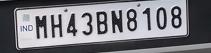0: (155, 7, 171, 30)
1: (141, 6, 154, 33)
3: (80, 11, 95, 37)
4: (66, 12, 79, 38)
8: (125, 7, 140, 33), (169, 5, 184, 30)
B: (96, 12, 110, 36)
H: (50, 14, 64, 39)
M: (34, 14, 49, 39)
N: (111, 9, 126, 35)
